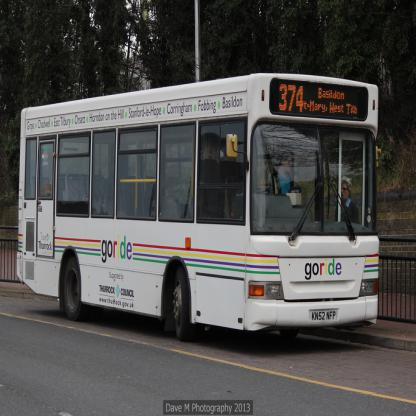Bus: (17, 73, 381, 341)
